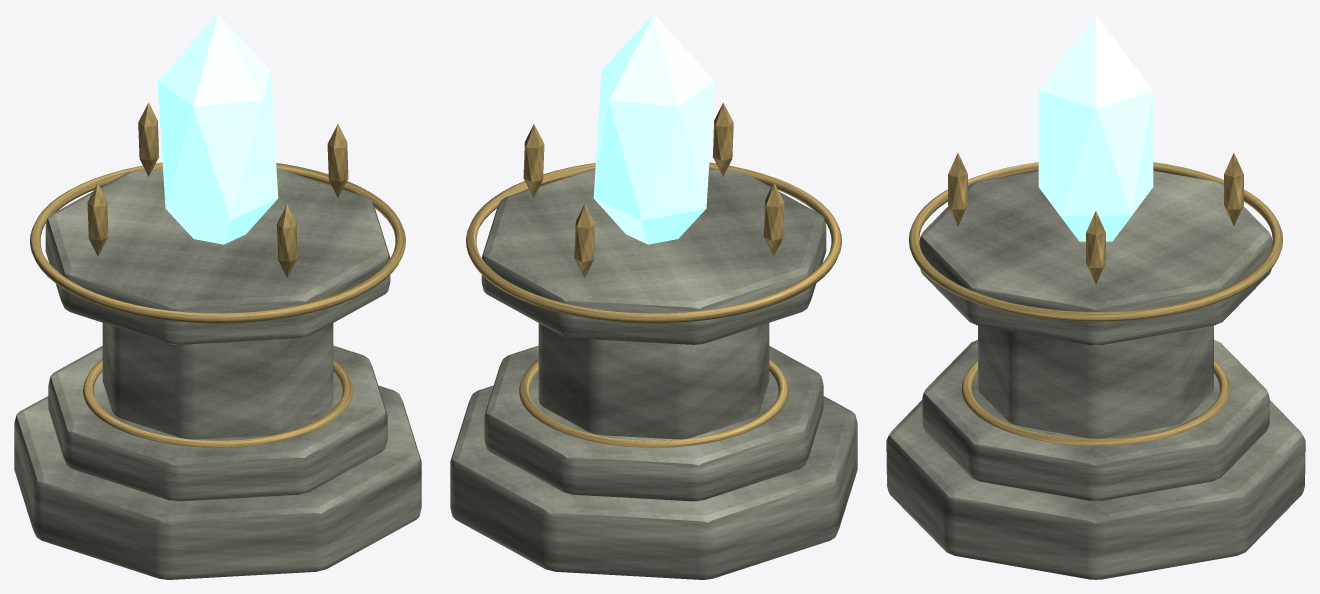
The model's file is shrine.glb.
The picture shows the model from 3 angles, left to right: view 1: azimuth 30°, elevation 25°; view 2: azimuth 150°, elevation 25°; view 3: azimuth 270°, elevation 25°; orthographic projection.
Visible parts, largest first — view 1: Shrine_stone.003, Shrine_stone, Shrine_stone.001, Shrine_stone.002, Shrine_crystal, Shrine_inlay.001, Shrine_inlay, Shrine_sigil, Shrine_sigil.002, Shrine_sigil.001, Shrine_sigil.003; view 2: Shrine_stone.003, Shrine_stone, Shrine_stone.001, Shrine_stone.002, Shrine_crystal, Shrine_inlay.001, Shrine_inlay, Shrine_sigil, Shrine_sigil.002, Shrine_sigil.003, Shrine_sigil.001; view 3: Shrine_stone.003, Shrine_stone, Shrine_stone.001, Shrine_stone.002, Shrine_crystal, Shrine_inlay.001, Shrine_inlay, Shrine_sigil, Shrine_sigil.001, Shrine_sigil.003.
Part boxes in pixels (left/top/right/bottom): Shrine_stone.003: left=45, top=168, right=390, bottom=344; Shrine_stone: left=14, top=385, right=421, bottom=579; Shrine_stone.001: left=48, top=345, right=387, bottom=501; Shrine_stone.002: left=102, top=323, right=333, bottom=439; Shrine_crystal: left=157, top=14, right=278, bottom=244; Shrine_inlay.001: left=30, top=162, right=405, bottom=323; Shrine_inlay: left=83, top=359, right=352, bottom=447; Shrine_sigil: left=327, top=124, right=348, bottom=197; Shrine_sigil.002: left=87, top=183, right=108, bottom=256; Shrine_sigil.001: left=138, top=102, right=159, bottom=176; Shrine_sigil.003: left=276, top=204, right=297, bottom=277; Shrine_stone.003: left=481, top=168, right=826, bottom=344; Shrine_stone: left=450, top=385, right=857, bottom=579; Shrine_stone.001: left=484, top=345, right=823, bottom=501; Shrine_stone.002: left=538, top=323, right=769, bottom=439; Shrine_crystal: left=593, top=14, right=714, bottom=244; Shrine_inlay.001: left=466, top=162, right=841, bottom=323; Shrine_inlay: left=519, top=359, right=788, bottom=447; Shrine_sigil: left=523, top=124, right=544, bottom=197; Shrine_sigil.002: left=763, top=183, right=784, bottom=256; Shrine_sigil.003: left=712, top=102, right=733, bottom=176; Shrine_sigil.001: left=574, top=204, right=595, bottom=277; Shrine_stone.003: left=919, top=170, right=1272, bottom=345; Shrine_stone: left=886, top=400, right=1305, bottom=579; Shrine_stone.001: left=922, top=340, right=1269, bottom=501; Shrine_stone.002: left=978, top=325, right=1213, bottom=438; Shrine_crystal: left=1038, top=14, right=1153, bottom=241; Shrine_inlay.001: left=908, top=162, right=1283, bottom=321; Shrine_inlay: left=961, top=360, right=1230, bottom=445; Shrine_sigil: left=1086, top=211, right=1105, bottom=284; Shrine_sigil.001: left=1224, top=153, right=1243, bottom=226; Shrine_sigil.003: left=948, top=153, right=967, bottom=226.
Size of the model in its own units: 1.43 by 1.81 by 1.43.
Materials: 3 (2 with a texture image).
